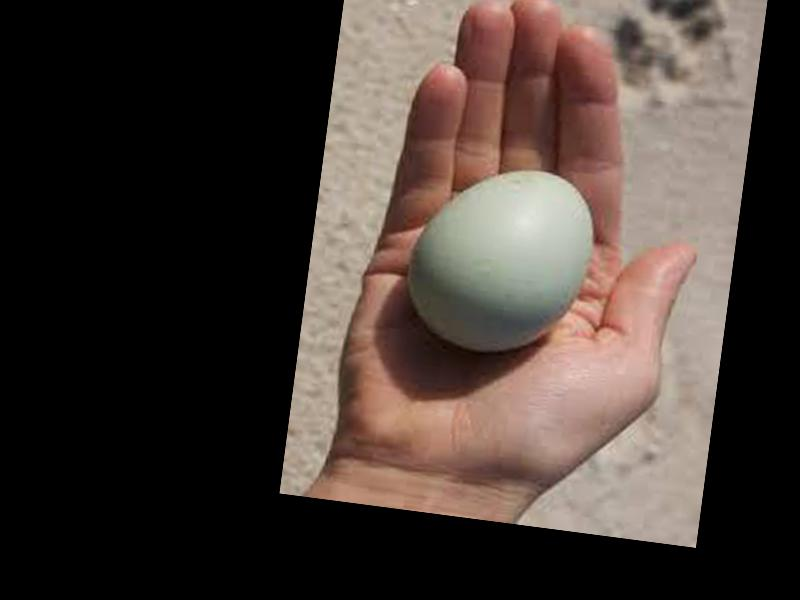Eggs: (399, 159, 596, 359)
